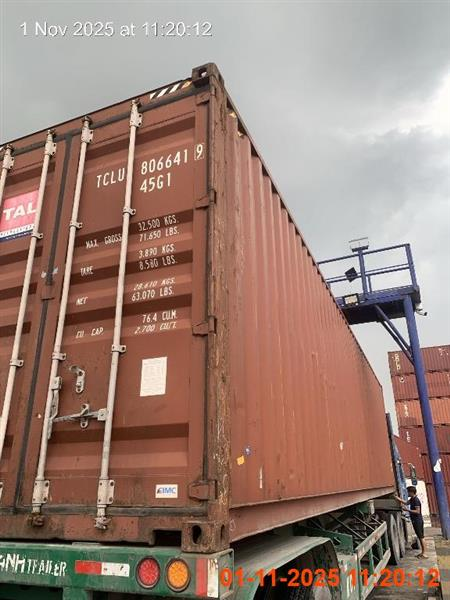broken: (1, 62, 427, 598), (394, 485, 428, 559)
